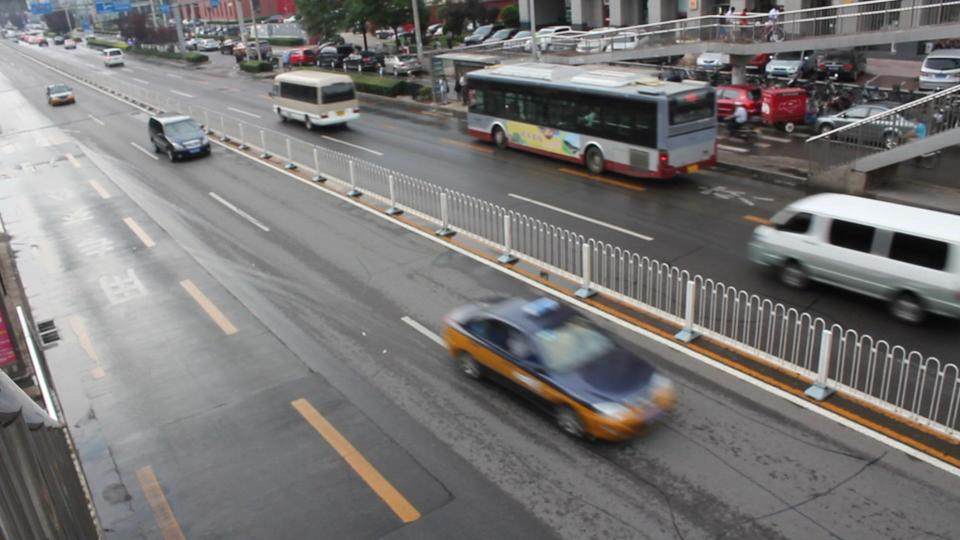bus: (462, 61, 721, 182), (268, 68, 363, 130)
car: (438, 294, 680, 445), (748, 191, 960, 325), (147, 113, 211, 162), (808, 104, 892, 133), (919, 49, 960, 92), (764, 49, 819, 79), (462, 26, 526, 46), (380, 55, 426, 76), (46, 83, 76, 106), (96, 48, 125, 67), (17, 32, 46, 45)
